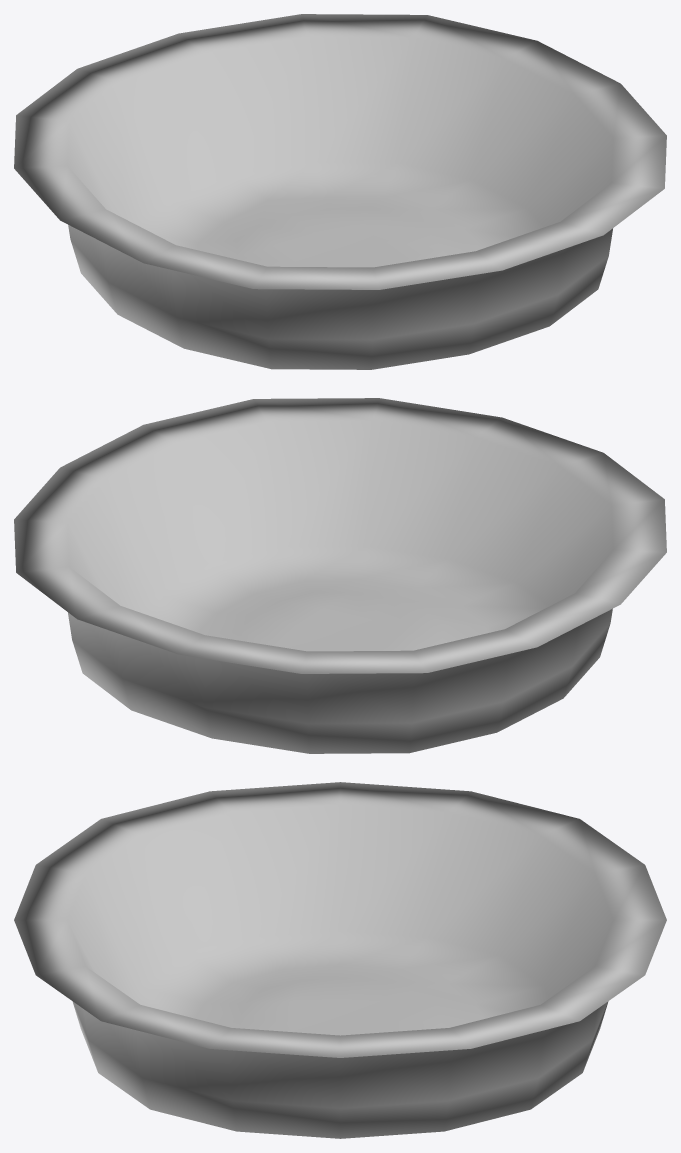
File: tarai.fbx
3 renders of one model, top to bottom at view 1: azimuth 30°, elevation 25°; view 2: azimuth 150°, elevation 25°; view 3: azimuth 270°, elevation 25°, orthographic.
Parts seen in each view (by area): view 1: tarai; view 2: tarai; view 3: tarai.
Boxes of the visible parts, x1,y1,x2,y2 form: tarai: (14, 14, 666, 369); tarai: (14, 398, 666, 753); tarai: (14, 782, 666, 1138).
Bounding box in the file's own units: 227 × 45.6 × 227.
